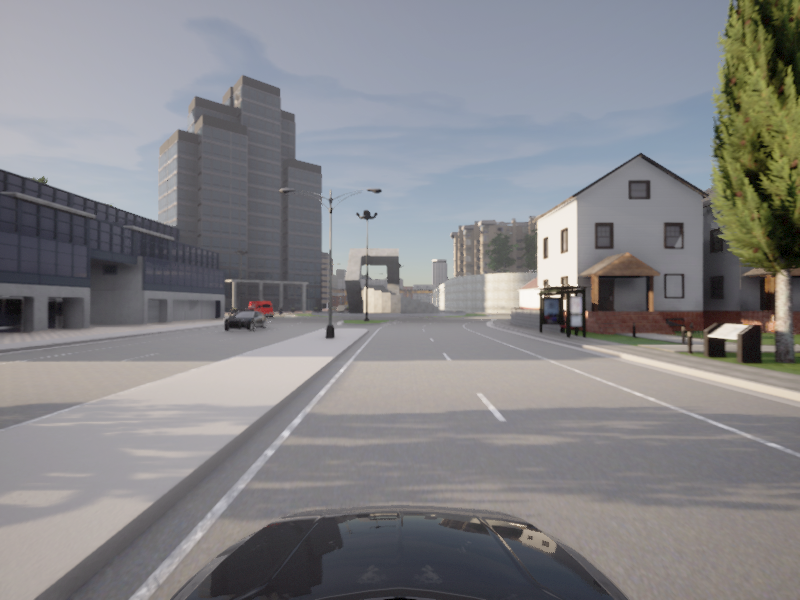vehicle: (219, 308, 269, 332)
